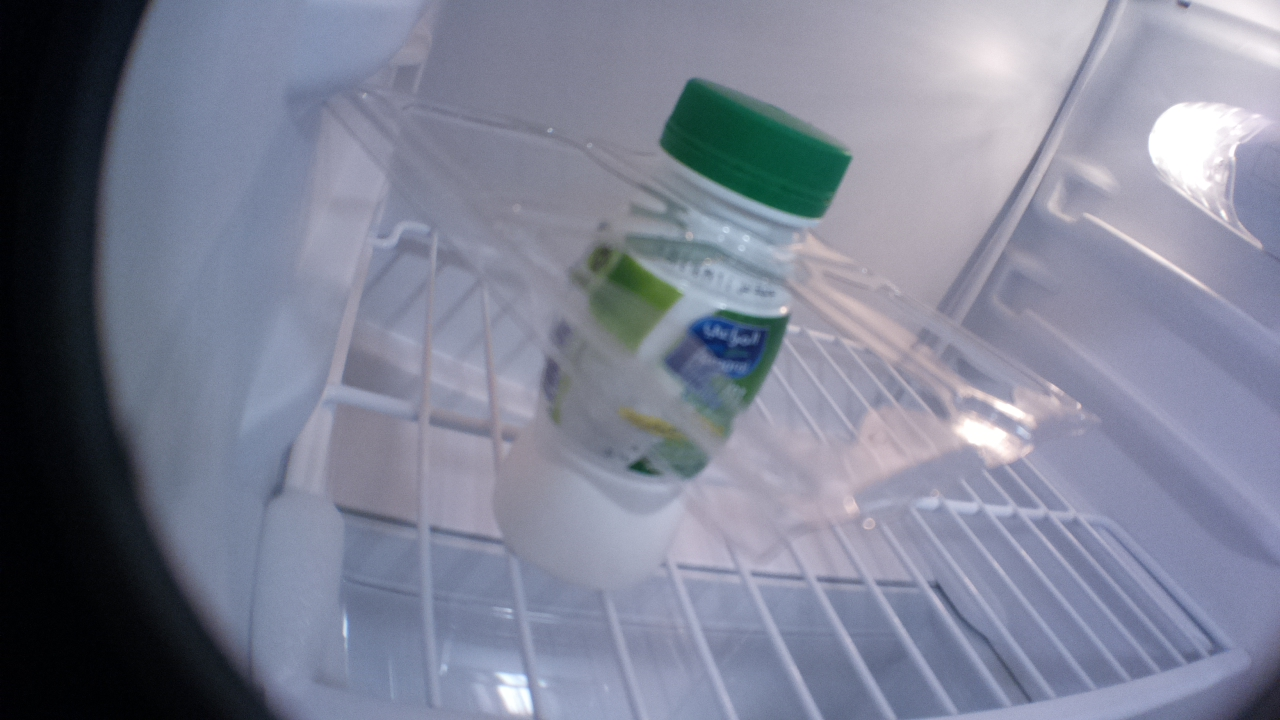laban: (501, 74, 856, 591)
